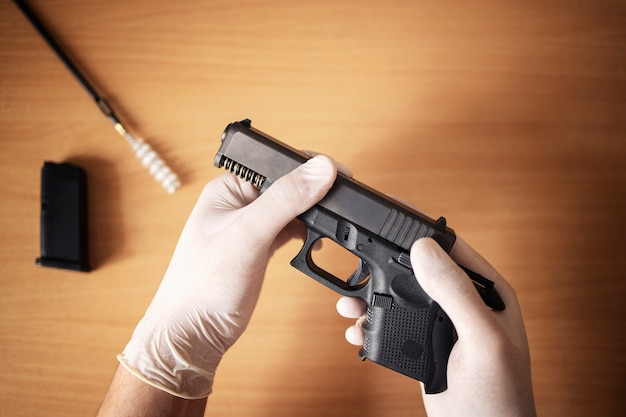gun: (212, 113, 504, 397)
